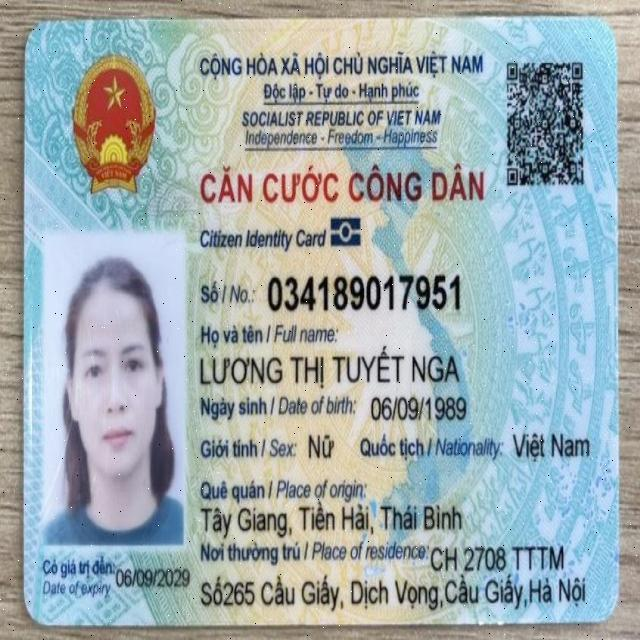current_place: (198, 570, 594, 616), (427, 538, 568, 575)
dob: (367, 393, 471, 422)
expire_date: (114, 563, 192, 591)
gender: (304, 427, 335, 463)
id: (264, 271, 466, 312)
name: (197, 345, 467, 390)
nationality: (507, 427, 594, 467)
origin_place: (198, 504, 467, 537)
